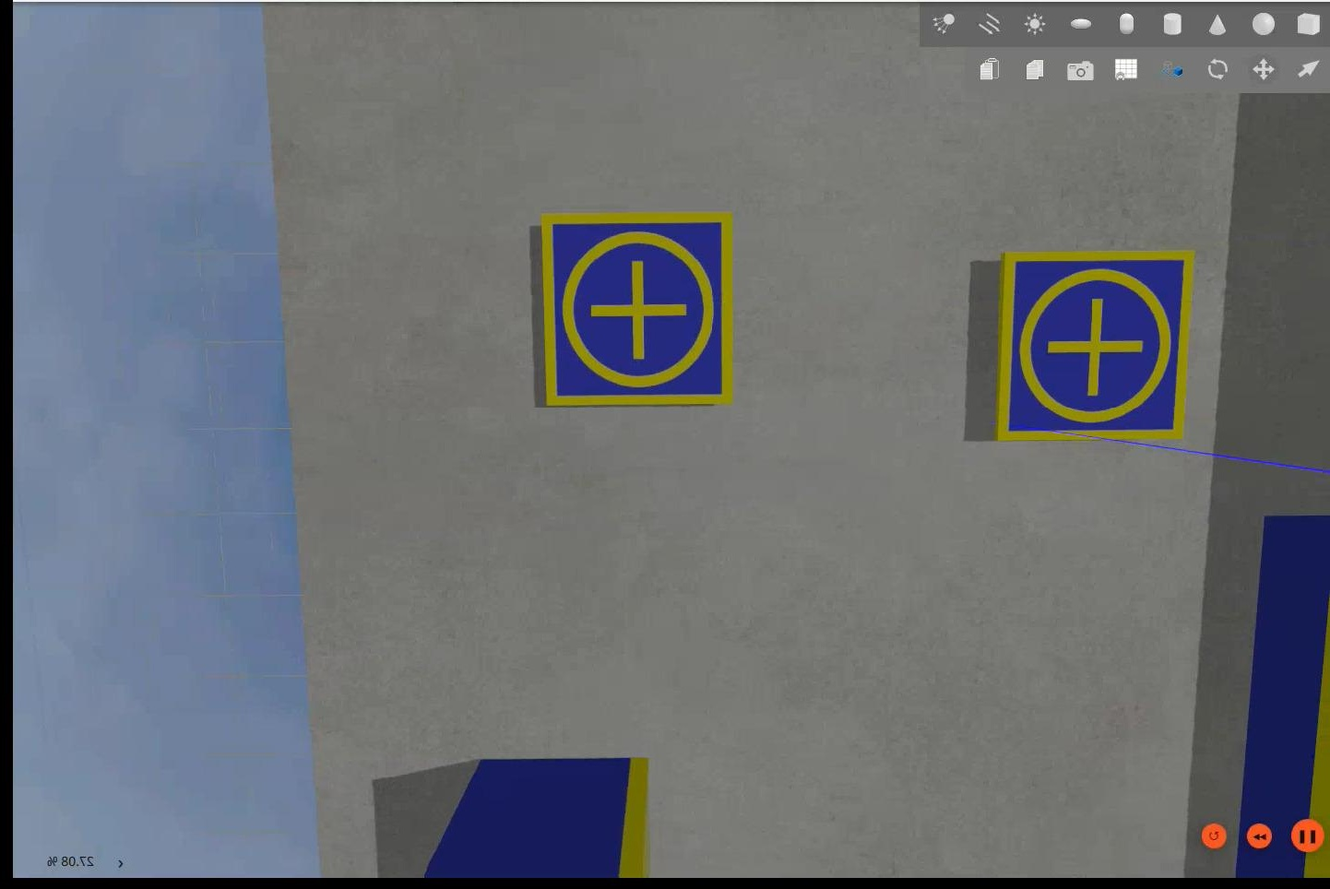small_base: (991, 245, 1196, 444), (537, 208, 734, 406)
